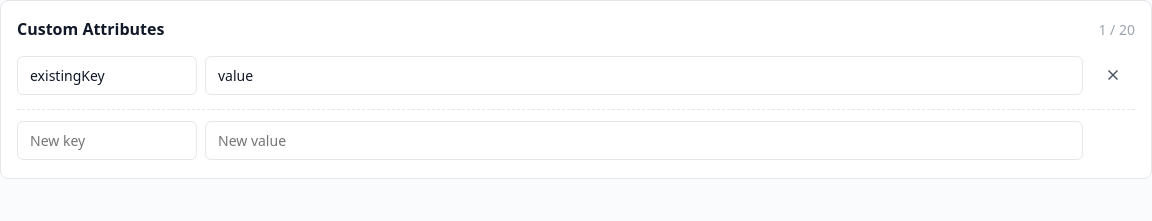
Test: CustomAttributesEditor › Validation › shows error for duplicate key
Type "existingKey" into the field with placeholder "New key".
click(107, 140); type("existingKey")  # box [17, 120, 197, 160]
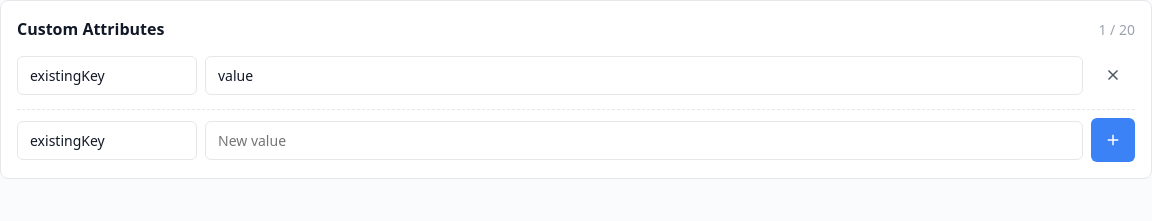
Click the button named "Add attribute".
click(1113, 140)  # box [1091, 118, 1135, 162]
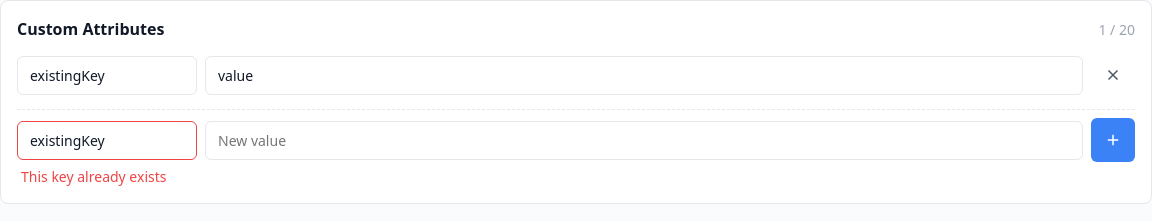
Expected: the message shows "already exists", [21, 167, 166, 186]
